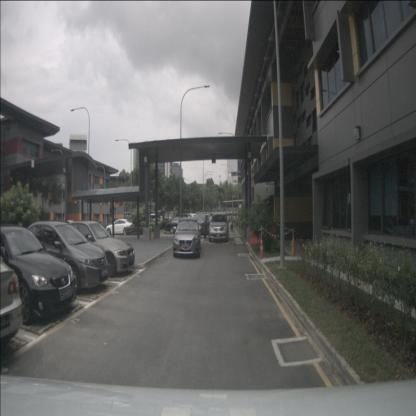movable_object-barrier: (249, 225, 276, 246)
movable_object-trafficcone: (259, 237, 265, 259), (290, 235, 296, 256)
vehicle-car: (0, 224, 76, 324), (11, 221, 109, 295), (45, 219, 135, 279), (0, 255, 23, 342), (172, 218, 200, 258), (209, 213, 229, 242), (165, 216, 193, 235), (192, 214, 211, 238), (175, 212, 200, 230), (106, 219, 134, 235), (145, 214, 160, 226), (152, 215, 164, 225), (160, 218, 170, 224)
vehicle-motorcycle: (230, 216, 234, 231)
